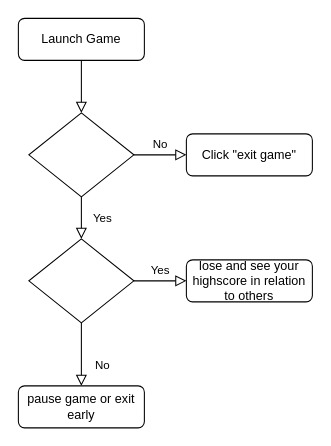
Image size: 331x446. Some labels were removed from this diagram. Each missing label, with the centre of its shape:
"Play till your character loses" goes at point (81, 280).
"Ready to Play?" goes at point (81, 154).
